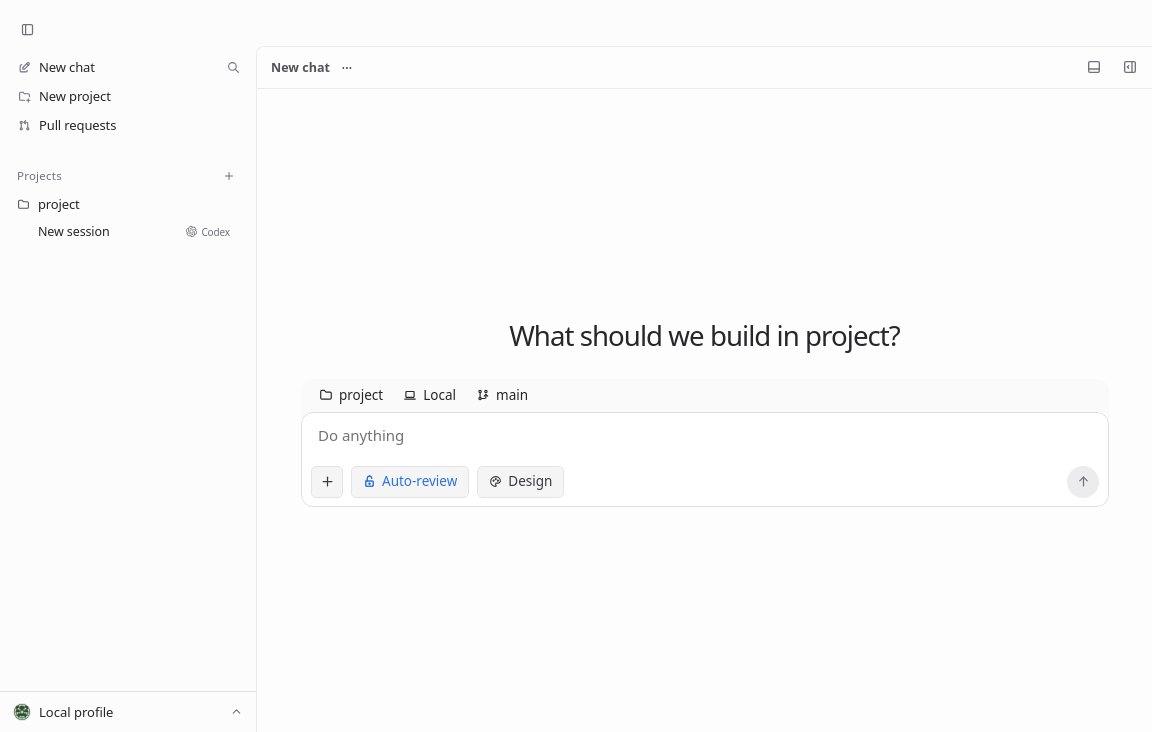
Test: web client › opens the pull-request workspace from the sidebar
Click the button "Pull requests".
click(128, 125)  # box [10, 112, 246, 138]
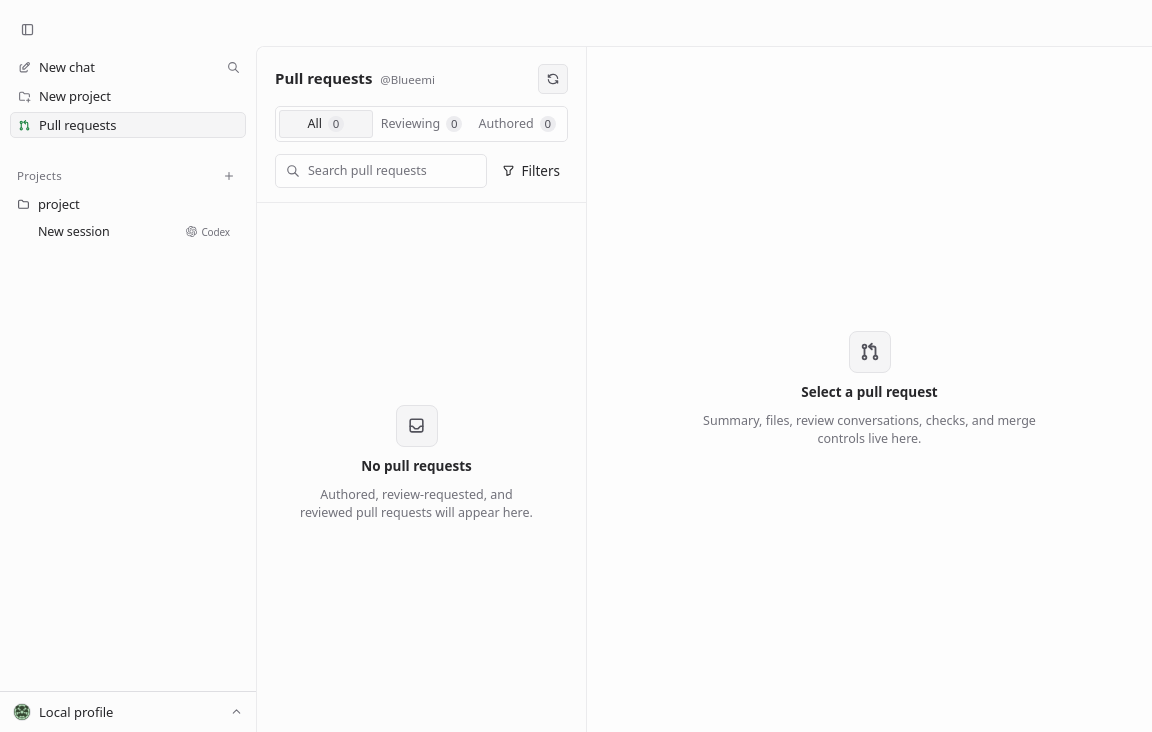
Expected: the element "Pull requests" is shown
Expected: the text "No pull requests" is shown, [361, 456, 472, 477]
